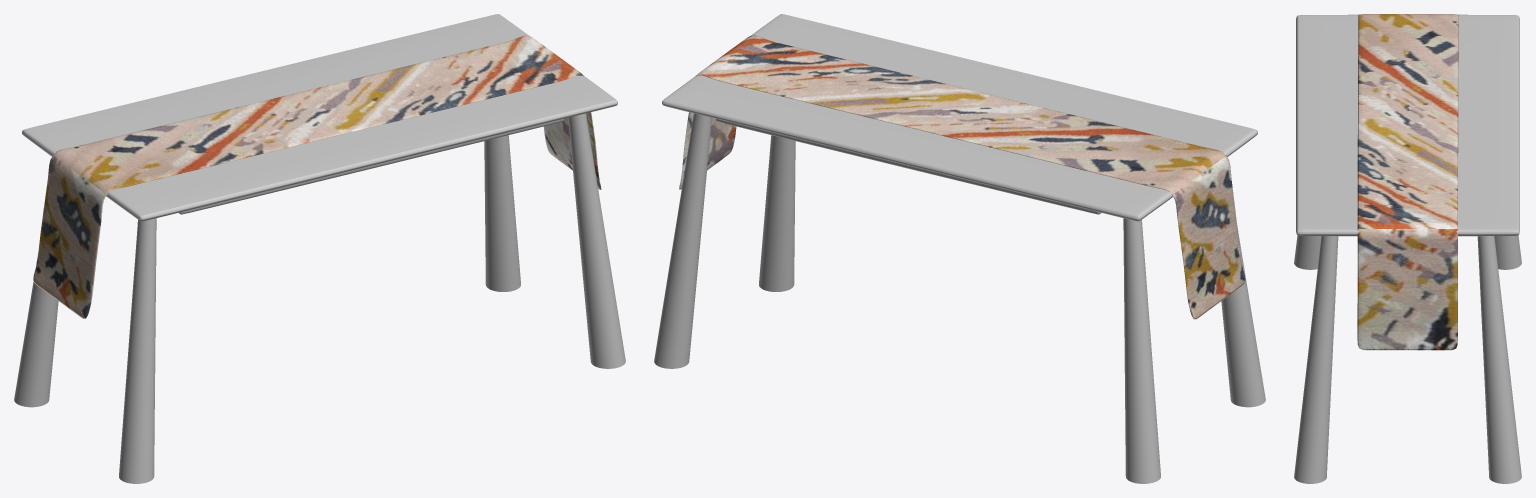
File: dining table.fbx
3 renders of one model, left to right at view 1: azimuth 30°, elevation 25°; view 2: azimuth 150°, elevation 25°; view 3: azimuth 270°, elevation 25°, orthographic. The views are drawn at different scales.
Visible parts, largest first — view 1: 柱体.006; view 2: 柱体.006; view 3: 柱体.006.
Boxes of the visible parts, left/top/right/bottom form: 柱体.006: left=14, top=14, right=625, bottom=483; 柱体.006: left=654, top=14, right=1265, bottom=483; 柱体.006: left=1294, top=14, right=1521, bottom=483.
Size of the model in its own units: 131 by 318 by 158.
